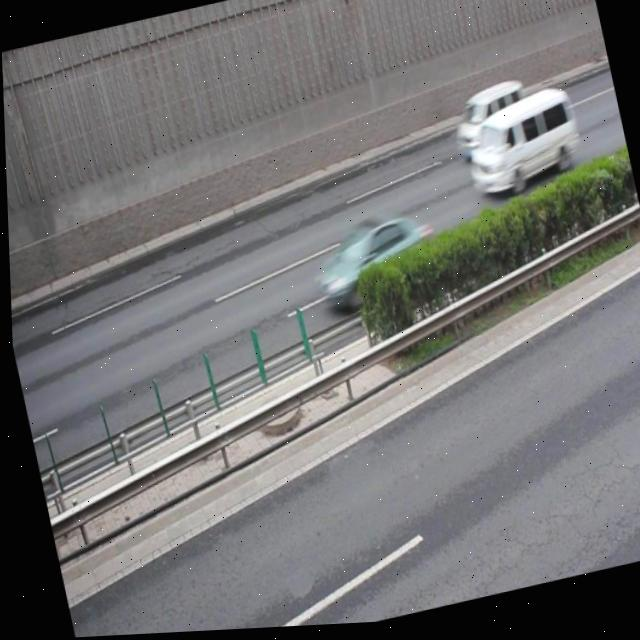car: (307, 205, 442, 315)
truck: (453, 88, 583, 204), (445, 79, 531, 163)
